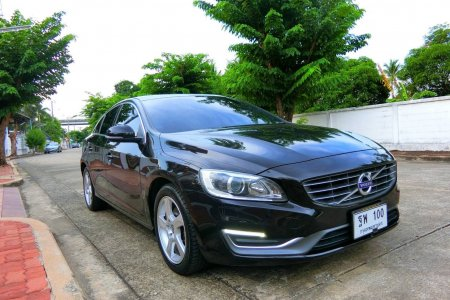sedan: (79, 92, 403, 278)
